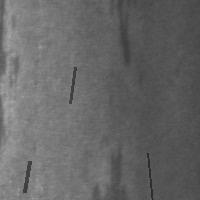inclusion: (107, 1, 141, 75), (99, 139, 131, 199), (2, 49, 29, 99), (145, 151, 154, 200), (68, 65, 77, 105), (22, 159, 31, 194)
